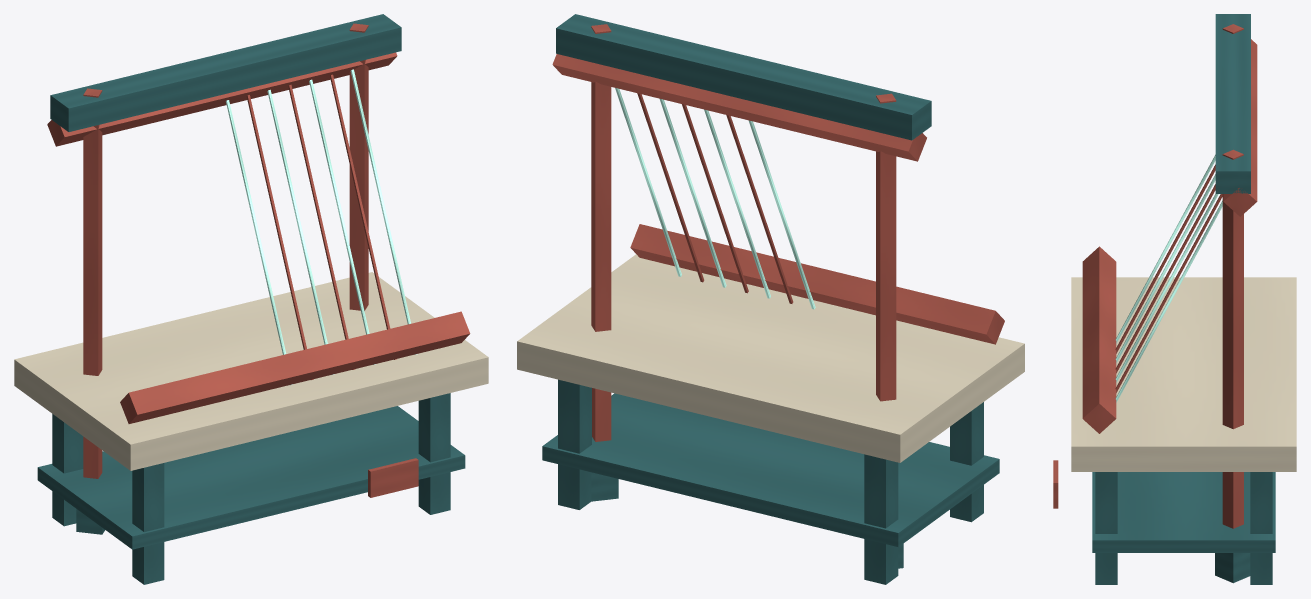
Rendered from atlas100-s033-a02.lod2.glb.
3 renders of one model, left to right at view 1: azimuth 30°, elevation 25°; view 2: azimuth 150°, elevation 25°; view 3: azimuth 270°, elevation 25°, orthographic. The views are drawn at different scales.
Parts seen in each view (by area): view 1: atlas100-s033-a02:part-004, atlas100-s033-a02:part-005, atlas100-s033-a02:part-010, atlas100-s033-a02:part-024, atlas100-s033-a02:part-006, atlas100-s033-a02:part-008, atlas100-s033-a02:part-025, atlas100-s033-a02:part-001, atlas100-s033-a02:part-003, atlas100-s033-a02:part-000, atlas100-s033-a02:part-026, atlas100-s033-a02:part-019 (+6 smaller); view 2: atlas100-s033-a02:part-004, atlas100-s033-a02:part-005, atlas100-s033-a02:part-010, atlas100-s033-a02:part-024, atlas100-s033-a02:part-025, atlas100-s033-a02:part-008, atlas100-s033-a02:part-006, atlas100-s033-a02:part-000, atlas100-s033-a02:part-002, atlas100-s033-a02:part-001, atlas100-s033-a02:part-019, atlas100-s033-a02:part-022 (+6 smaller); view 3: atlas100-s033-a02:part-004, atlas100-s033-a02:part-005, atlas100-s033-a02:part-010, atlas100-s033-a02:part-008, atlas100-s033-a02:part-024, atlas100-s033-a02:part-002, atlas100-s033-a02:part-003, atlas100-s033-a02:part-025, atlas100-s033-a02:part-009, atlas100-s033-a02:part-023, atlas100-s033-a02:part-022, atlas100-s033-a02:part-021 (+4 smaller).
Part boxes in pixels (left/top/right/bottom): atlas100-s033-a02:part-004: left=14, top=272, right=488, bottom=470; atlas100-s033-a02:part-005: left=37, top=406, right=465, bottom=549; atlas100-s033-a02:part-010: left=50, top=14, right=401, bottom=131; atlas100-s033-a02:part-024: left=120, top=311, right=470, bottom=423; atlas100-s033-a02:part-006: left=83, top=88, right=102, bottom=478; atlas100-s033-a02:part-008: left=349, top=23, right=368, bottom=310; atlas100-s033-a02:part-025: left=47, top=52, right=397, bottom=146; atlas100-s033-a02:part-001: left=132, top=463, right=164, bottom=584; atlas100-s033-a02:part-003: left=418, top=393, right=450, bottom=514; atlas100-s033-a02:part-000: left=52, top=414, right=83, bottom=526; atlas100-s033-a02:part-026: left=368, top=458, right=418, bottom=497; atlas100-s033-a02:part-019: left=267, top=89, right=334, bottom=374; atlas100-s033-a02:part-004: left=517, top=254, right=1024, bottom=462; atlas100-s033-a02:part-005: left=542, top=393, right=999, bottom=547; atlas100-s033-a02:part-010: left=556, top=14, right=931, bottom=140; atlas100-s033-a02:part-024: left=630, top=224, right=1004, bottom=344; atlas100-s033-a02:part-025: left=552, top=54, right=926, bottom=161; atlas100-s033-a02:part-008: left=591, top=24, right=611, bottom=441; atlas100-s033-a02:part-006: left=876, top=93, right=896, bottom=401; atlas100-s033-a02:part-000: left=864, top=454, right=898, bottom=584; atlas100-s033-a02:part-002: left=558, top=379, right=591, bottom=509; atlas100-s033-a02:part-001: left=950, top=402, right=983, bottom=522; atlas100-s033-a02:part-019: left=704, top=109, right=770, bottom=298; atlas100-s033-a02:part-022: left=637, top=93, right=704, bottom=282; atlas100-s033-a02:part-004: left=1071, top=277, right=1296, bottom=471; atlas100-s033-a02:part-005: left=1092, top=472, right=1275, bottom=552; atlas100-s033-a02:part-010: left=1215, top=14, right=1250, bottom=193; atlas100-s033-a02:part-008: left=1222, top=149, right=1243, bottom=528; atlas100-s033-a02:part-024: left=1082, top=246, right=1116, bottom=433; atlas100-s033-a02:part-002: left=1250, top=472, right=1272, bottom=584; atlas100-s033-a02:part-003: left=1095, top=472, right=1117, bottom=584; atlas100-s033-a02:part-025: left=1223, top=39, right=1257, bottom=216; atlas100-s033-a02:part-009: left=1215, top=553, right=1250, bottom=583; atlas100-s033-a02:part-023: left=1115, top=200, right=1222, bottom=402; atlas100-s033-a02:part-022: left=1115, top=194, right=1222, bottom=392; atlas100-s033-a02:part-021: left=1115, top=194, right=1218, bottom=382.
Bounding box in the file's own units: 2.84 × 3.3 × 1.73.
4 materials, 4 textured.
